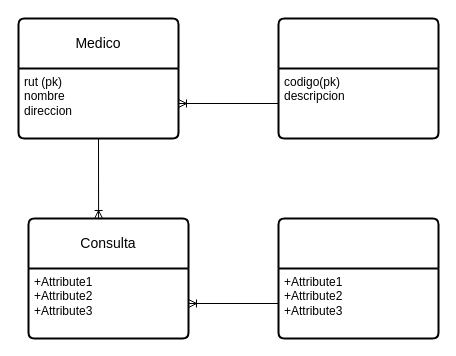
This 456x356 diagram has some shape labels left out. The box of each missing label's shape, as (x1, y1, x2, y2) in pixels:
Especialidad: (277, 17, 439, 139)
Pacientes: (277, 217, 439, 339)
